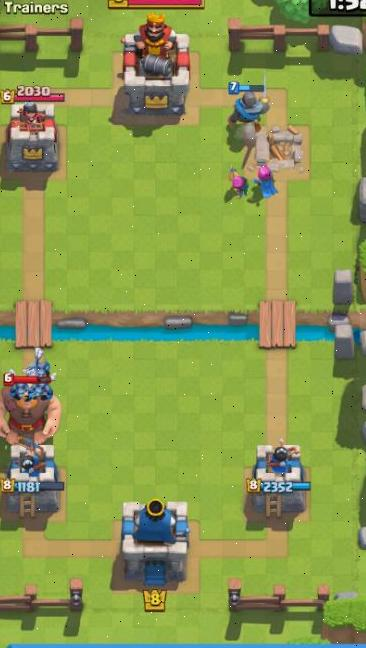enemy_giant: (0, 384, 62, 443)
player_archers: (252, 157, 283, 206), (222, 159, 252, 209)
player_knight: (222, 73, 276, 137)
player_minions: (22, 349, 51, 379), (8, 382, 36, 403), (27, 385, 58, 397)
